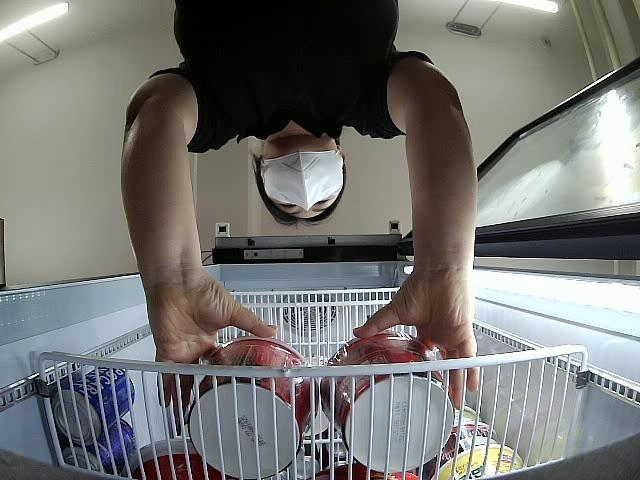01_ShinRamen_L: (321, 330, 454, 472), (187, 338, 318, 478)
